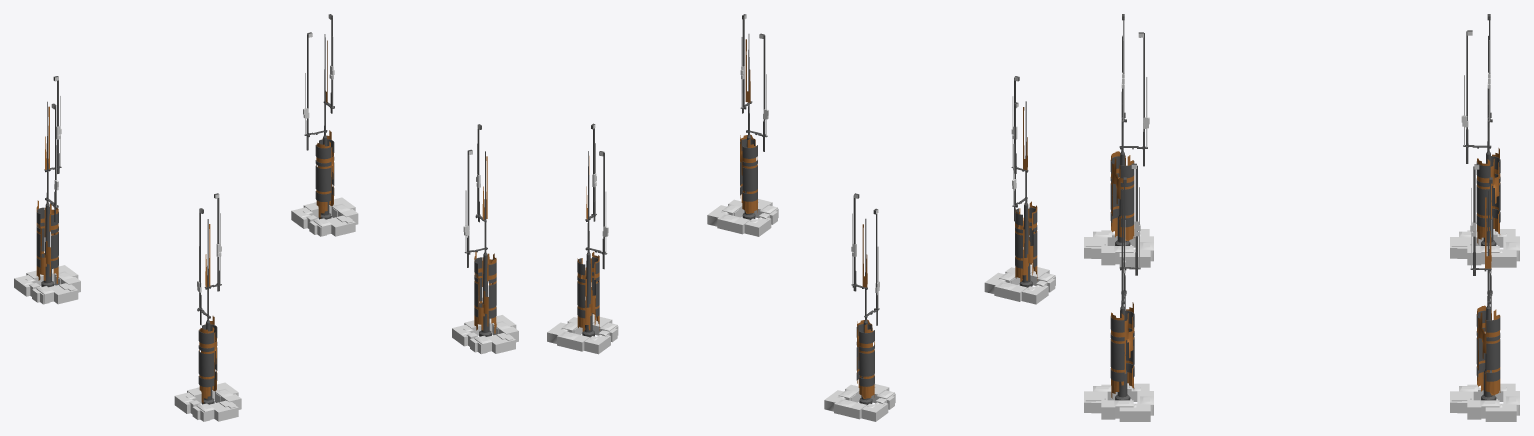
The model's file is VexArchitecture_55.fbx.
The picture shows the model from 3 angles, left to right: view 1: azimuth 30°, elevation 25°; view 2: azimuth 150°, elevation 25°; view 3: azimuth 270°, elevation 25°; orthographic projection. The views are drawn at different scales.
Parts seen in each view (by area): view 1: Mesh_0165.rip, Mesh_0164.rip, Mesh_0166.rip; view 2: Mesh_0165.rip, Mesh_0164.rip, Mesh_0166.rip; view 3: Mesh_0165.rip, Mesh_0164.rip, Mesh_0166.rip.
Boxes of the visible parts, left/top/right/bottom form: Mesh_0165.rip: left=14, top=15, right=518, bottom=421; Mesh_0164.rip: left=36, top=14, right=496, bottom=404; Mesh_0166.rip: left=36, top=40, right=496, bottom=403; Mesh_0165.rip: left=547, top=15, right=1055, bottom=421; Mesh_0164.rip: left=577, top=14, right=1037, bottom=404; Mesh_0166.rip: left=577, top=39, right=1037, bottom=398; Mesh_0165.rip: left=1084, top=31, right=1519, bottom=421; Mesh_0164.rip: left=1110, top=14, right=1500, bottom=400; Mesh_0166.rip: left=1111, top=148, right=1500, bottom=398.
Size of the model in its own units: 197 by 122 by 199.
